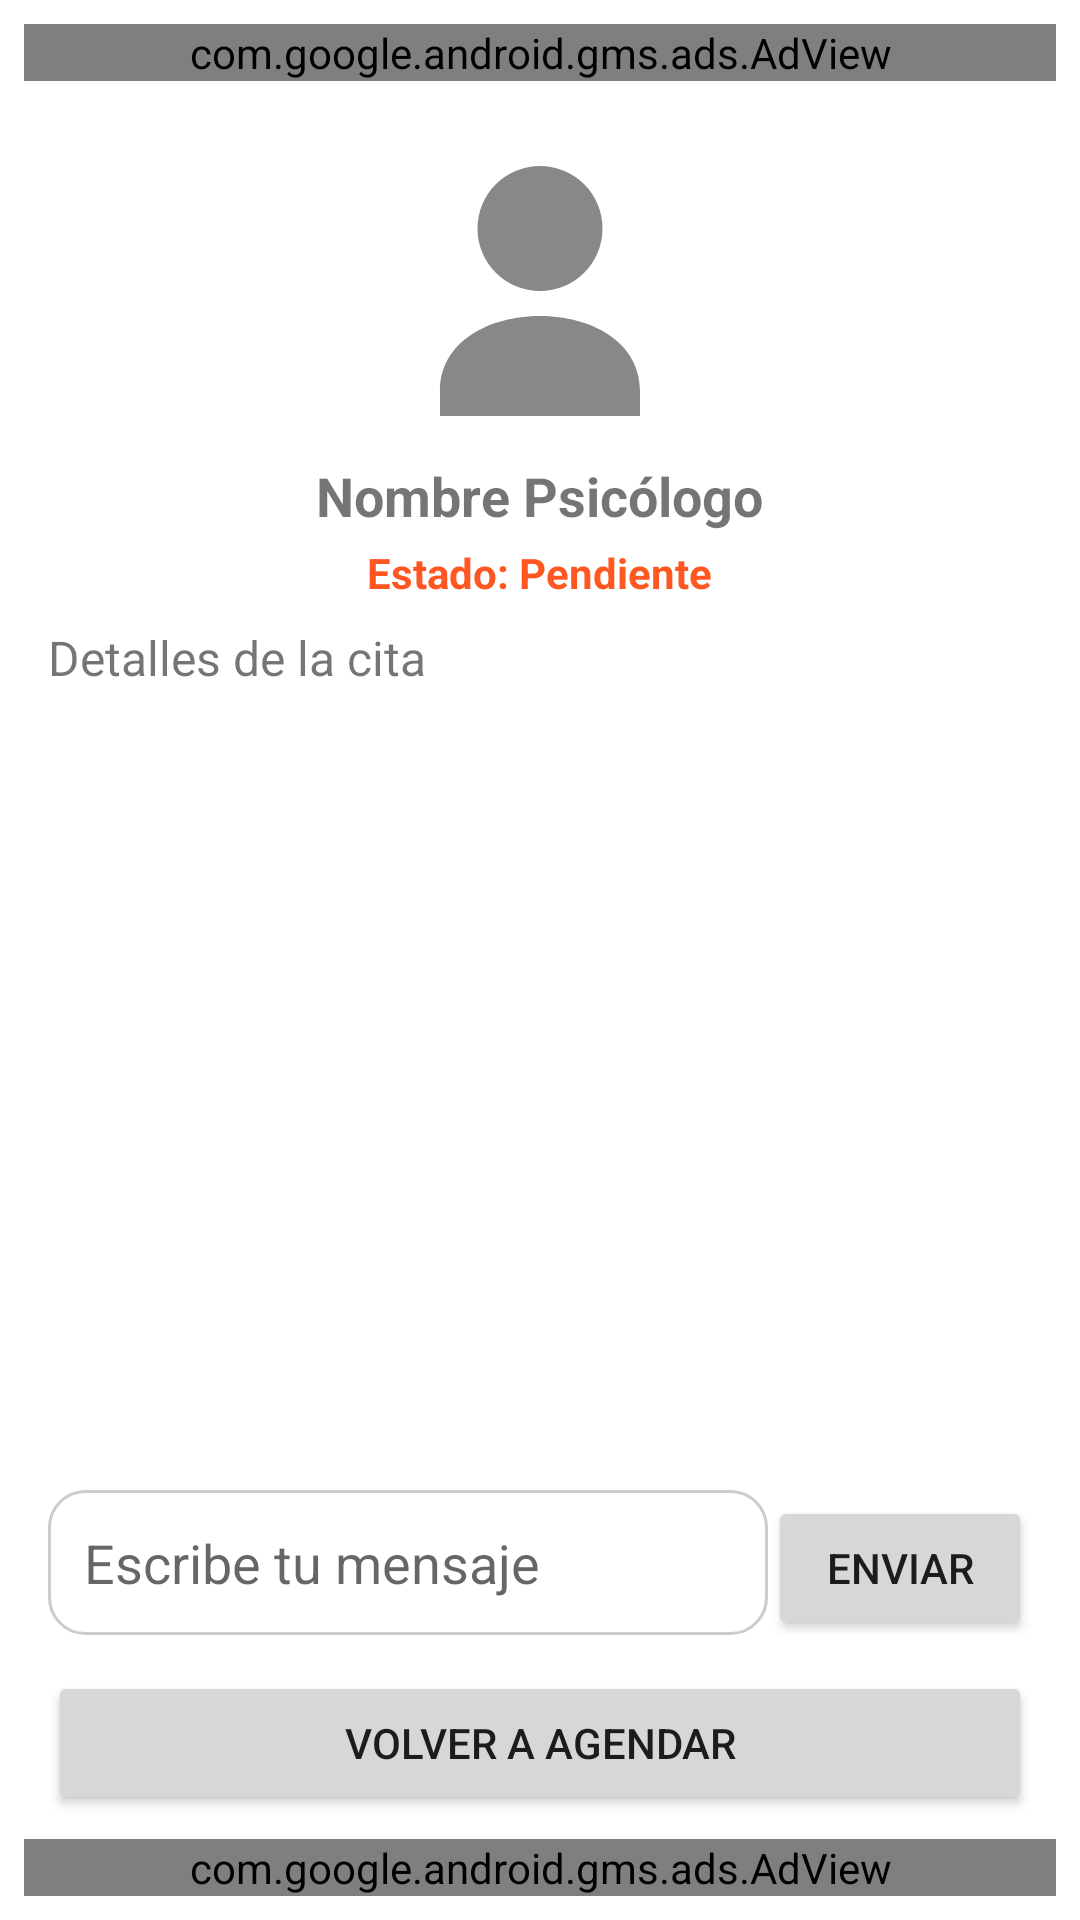

Named icons in this screenshot (1080 × 1920) and their centers, (x,y):
profile: (540,291)
